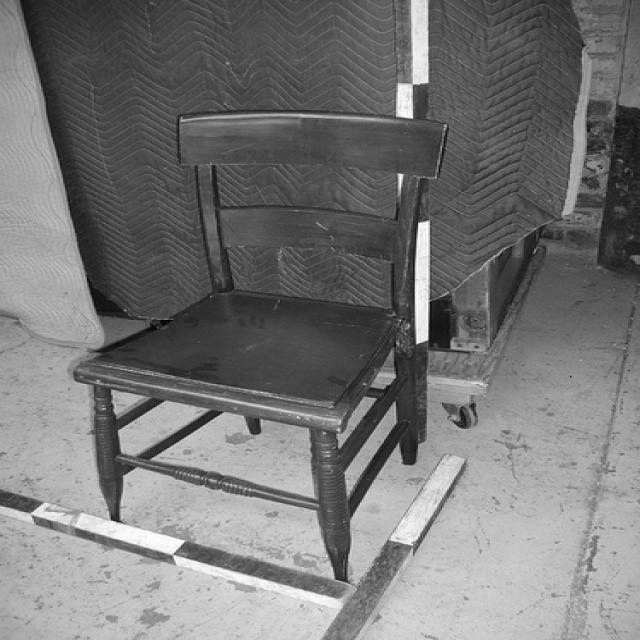chair: (74, 110, 453, 582)
